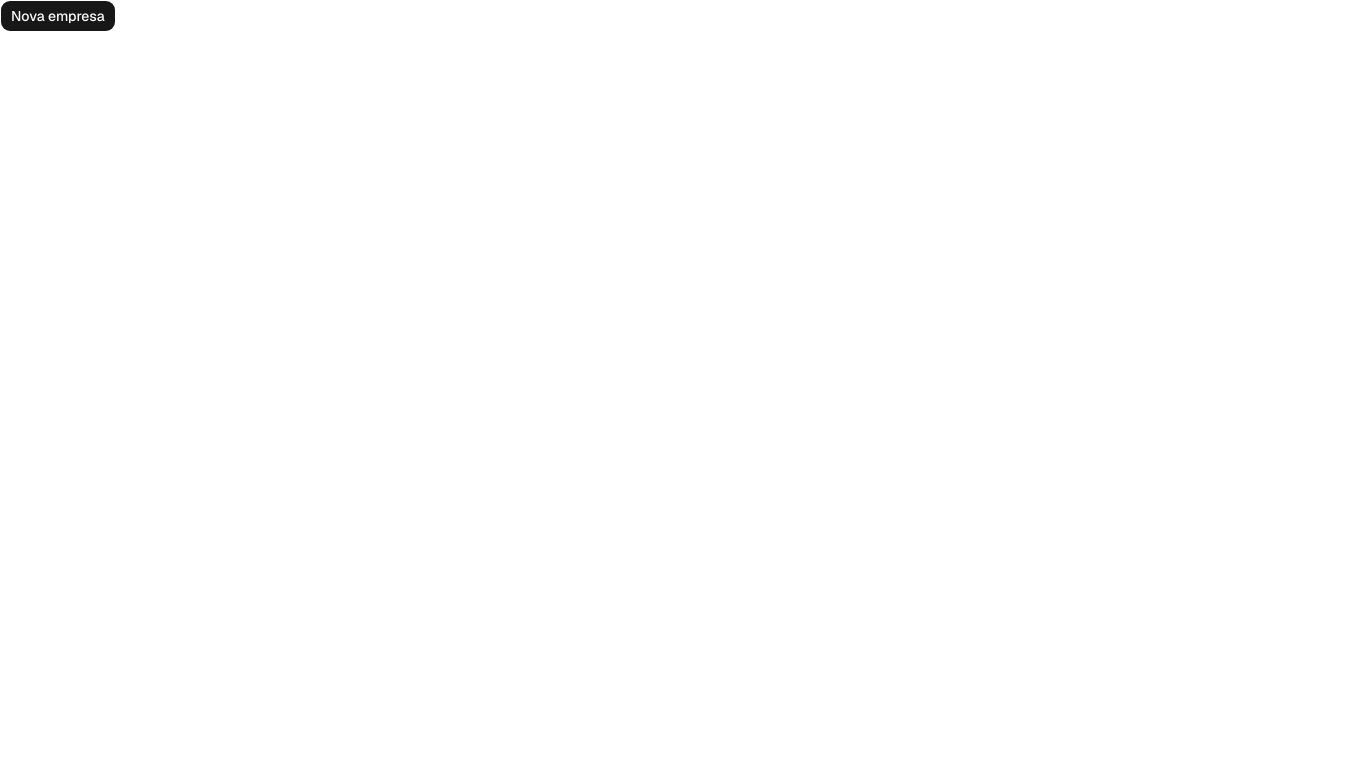
Test: CreateCompanyDialog › shows the field error Informe um nome de até 120 caracteres. and stays open
The width and height of the screenshot is (1366, 768).
Click the button "Nova empresa" at (58,16), box [0,0,116,32]
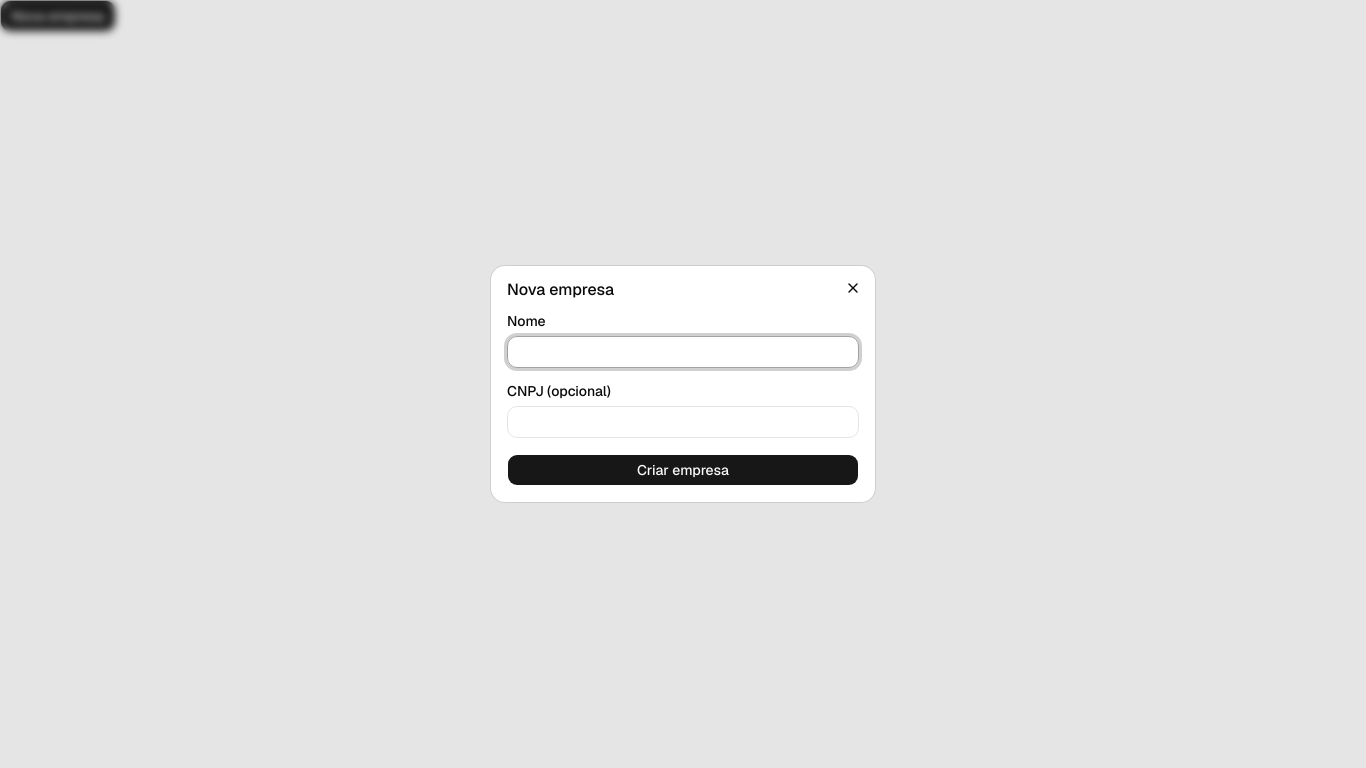
Type "Acme" into the field labelled "Nome" at (683,352), box [507,336,859,368]
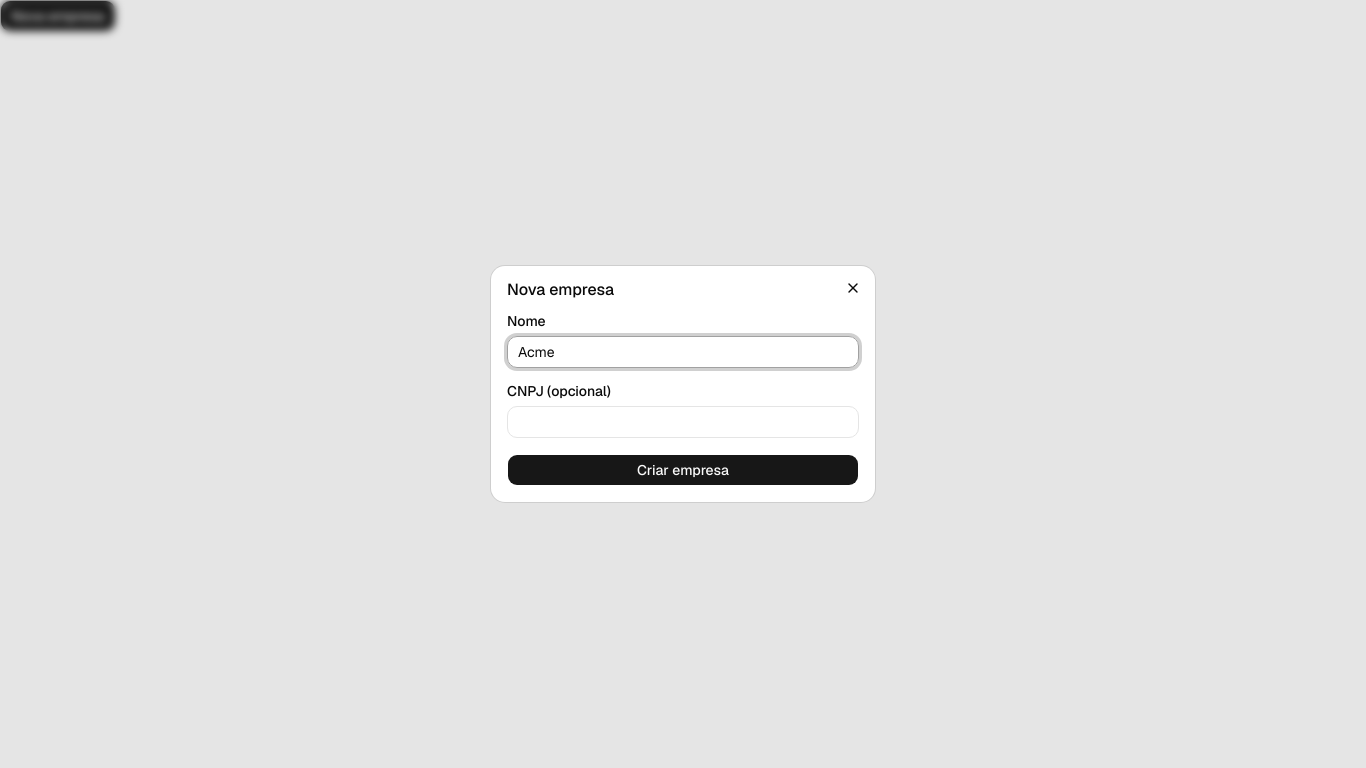
Click the button "Criar empresa" at (683,470), box [507,454,859,486]
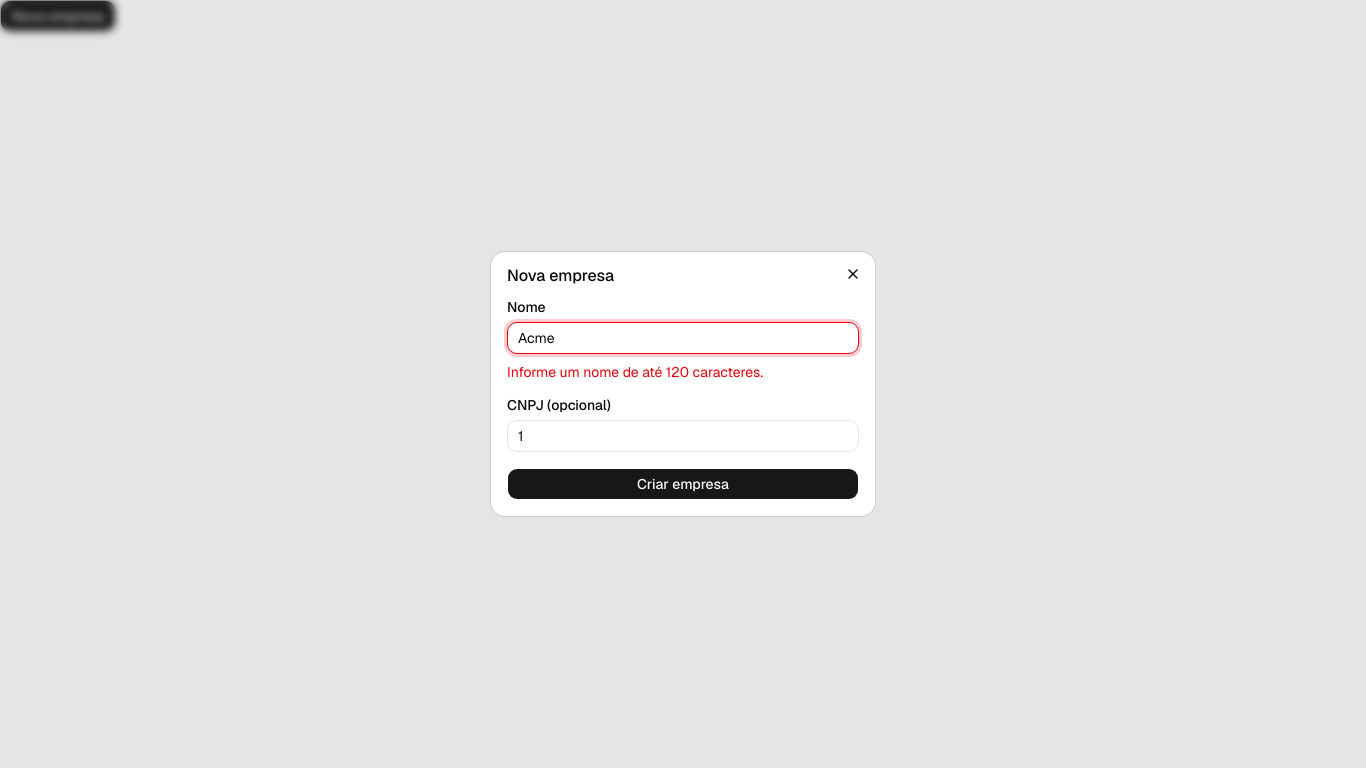
Check: the dialog is shown, box [491,252,875,516]
Check: the text "Informe um nome de até 120 caracteres." is shown, box [507,363,763,381]
